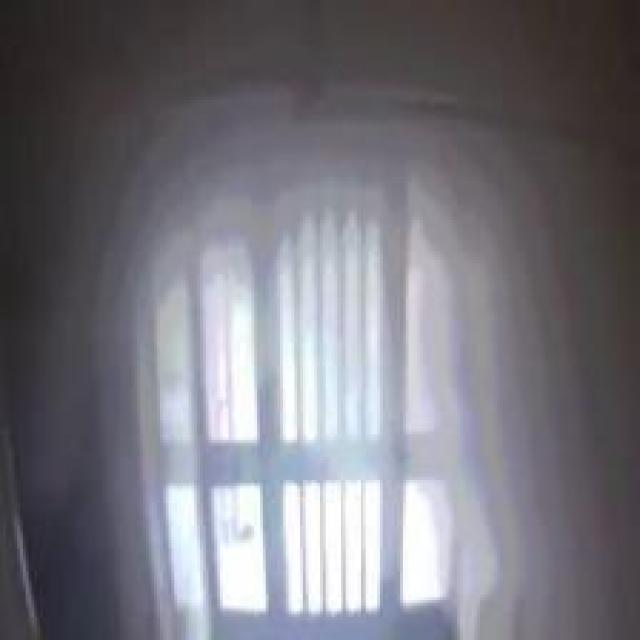fire: (147, 130, 510, 459)
